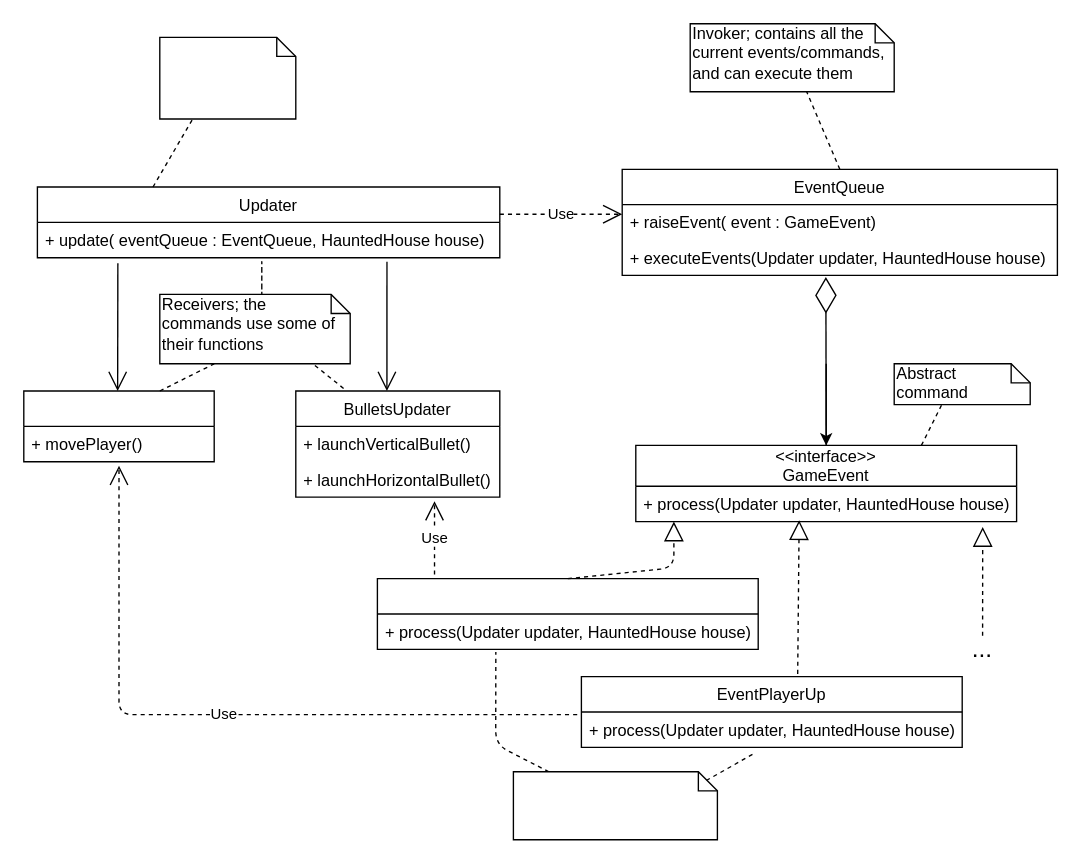
Image size: 1081x864. Some labels were removed from this diagram. Here are the shapes that lost their labels. From the top down, the box of each, then its label:
(158, 36, 296, 119): Client; uses the queue and consumes all the events
(22, 390, 214, 462): PlayerUpdater
(376, 577, 758, 649): EventBulletDown
(512, 770, 717, 840): Concrete commands; perform certain operations by using the receivers
